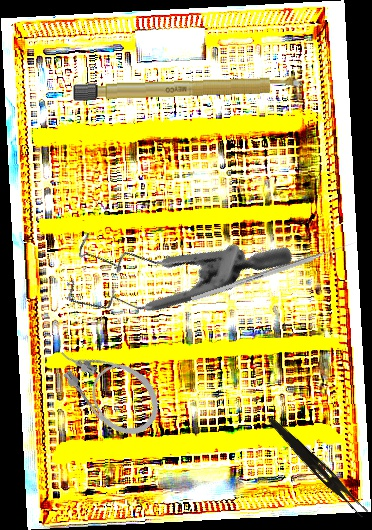Cannula: (46, 323, 172, 448)
Dressing Forceps: (263, 415, 372, 519)
Pusher: (190, 239, 358, 303)
Scalpel Handle: (72, 75, 305, 103)
Speculum: (42, 142, 297, 384)
